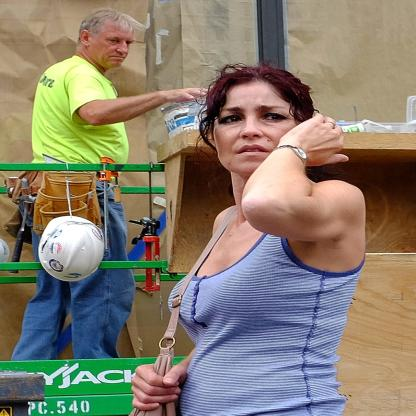Helmet: (29, 221, 106, 289)
